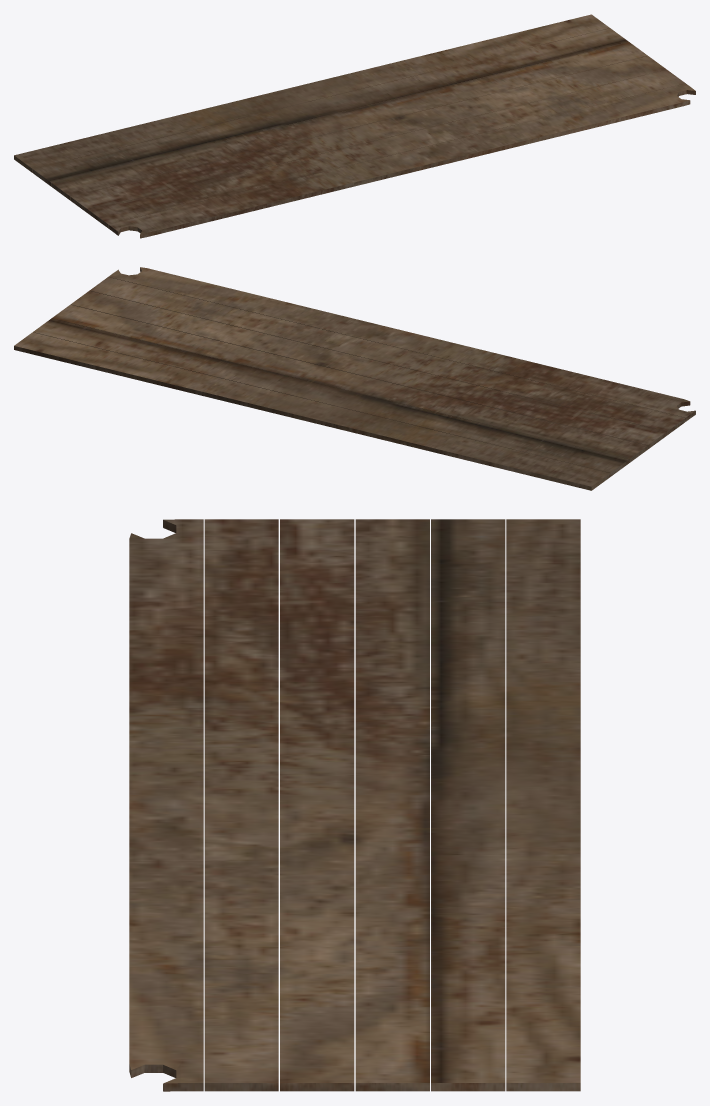
Rendered from Piso afuera.fbx.
3 renders of one model, top to bottom at view 1: azimuth 30°, elevation 25°; view 2: azimuth 150°, elevation 25°; view 3: azimuth 270°, elevation 25°, orthographic. The views are drawn at different scales.
Visible parts, largest first — view 1: Piso afuera; view 2: Piso afuera; view 3: Piso afuera.
Part boxes in pixels (box(x1,y1,x2,y2)): Piso afuera: box(14, 14, 695, 238); Piso afuera: box(14, 267, 695, 490); Piso afuera: box(129, 519, 580, 1091).
Size of the model in its own units: 6.26 by 0.0447 by 2.12.
